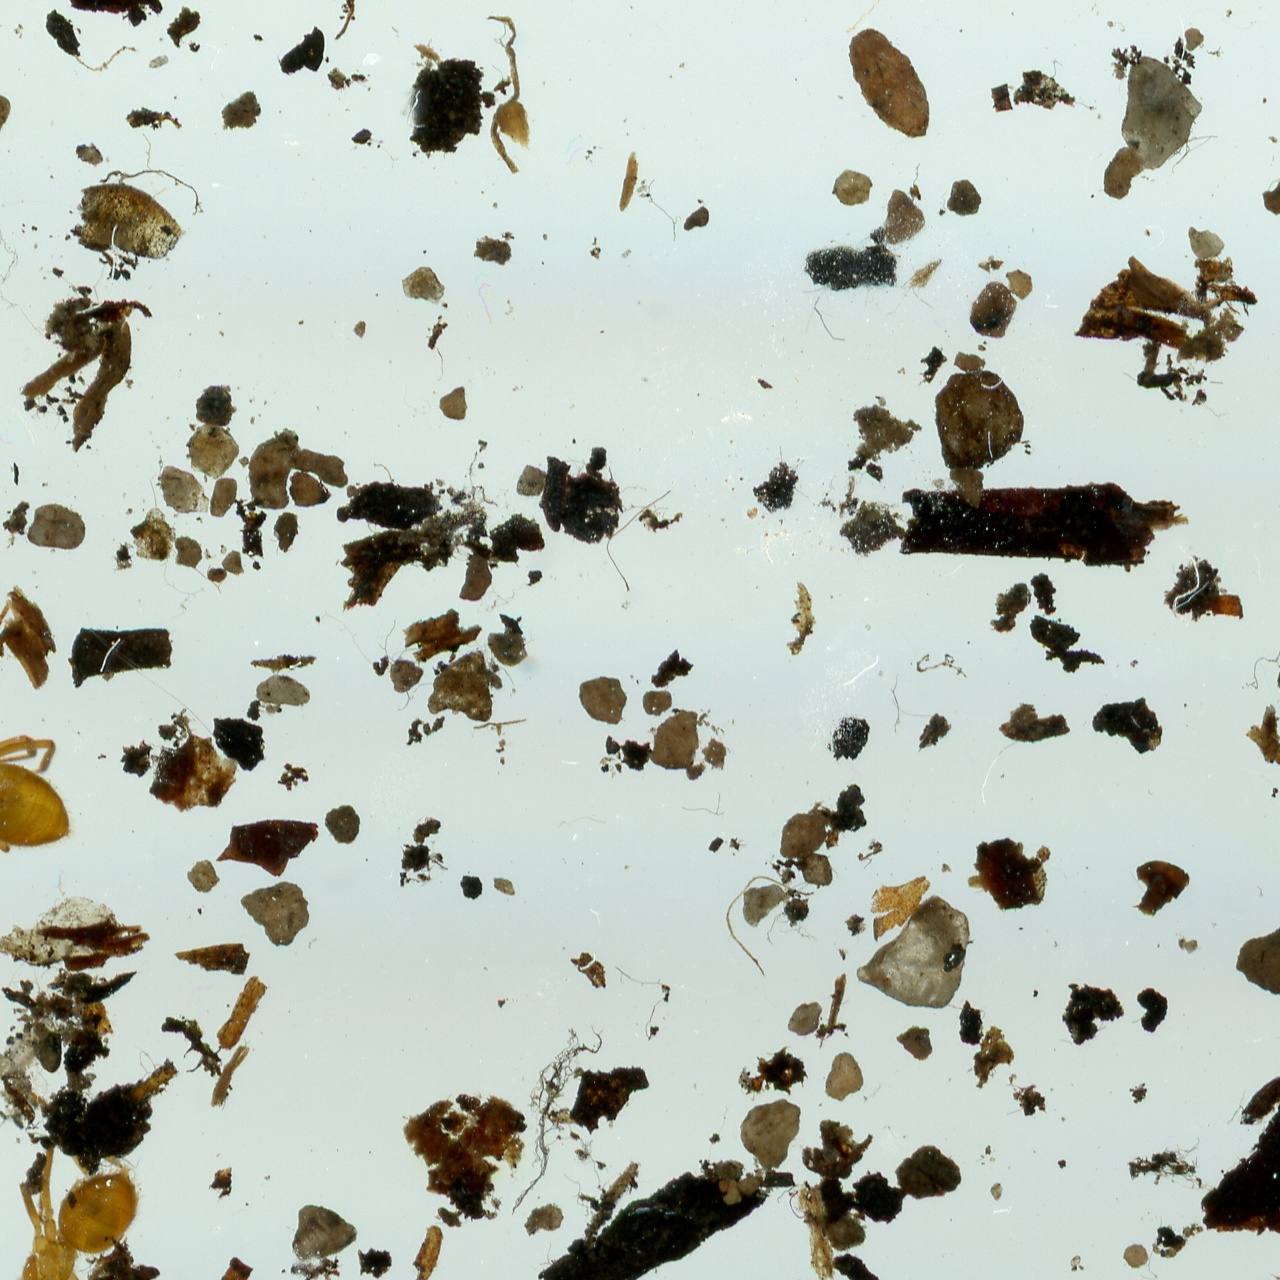arthropod: (0, 526, 143, 910), (0, 1083, 148, 1280)
